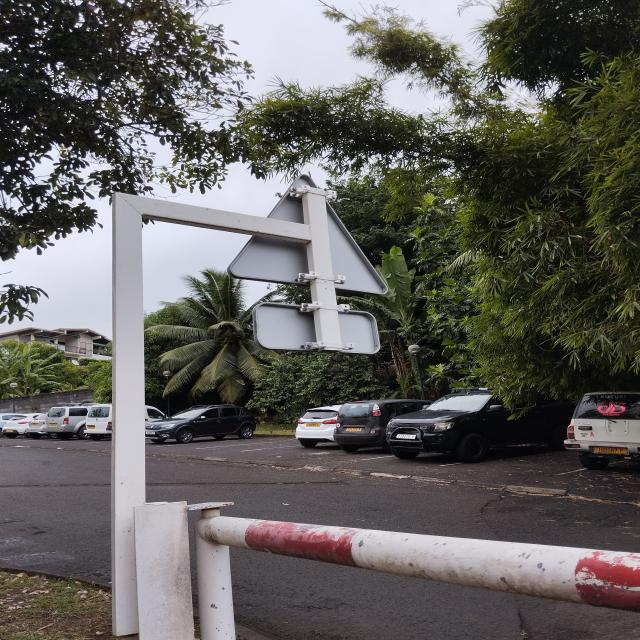Panneau: (223, 167, 406, 306)
